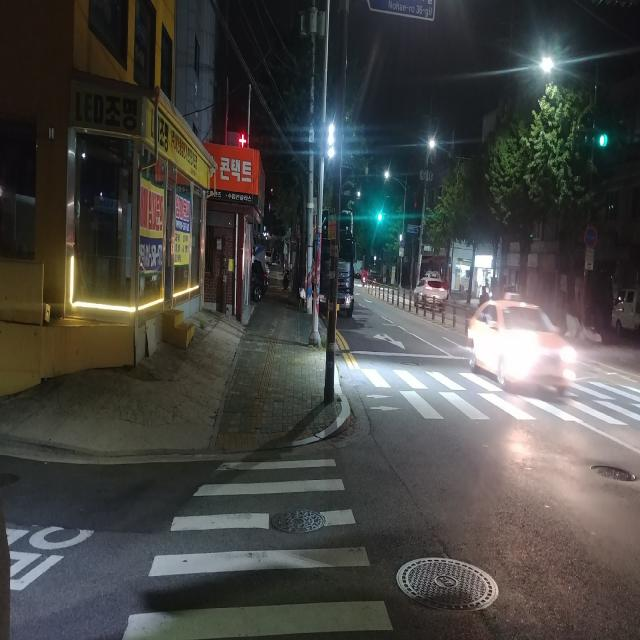횡단보도: (121, 458, 393, 640), (357, 360, 635, 420)
